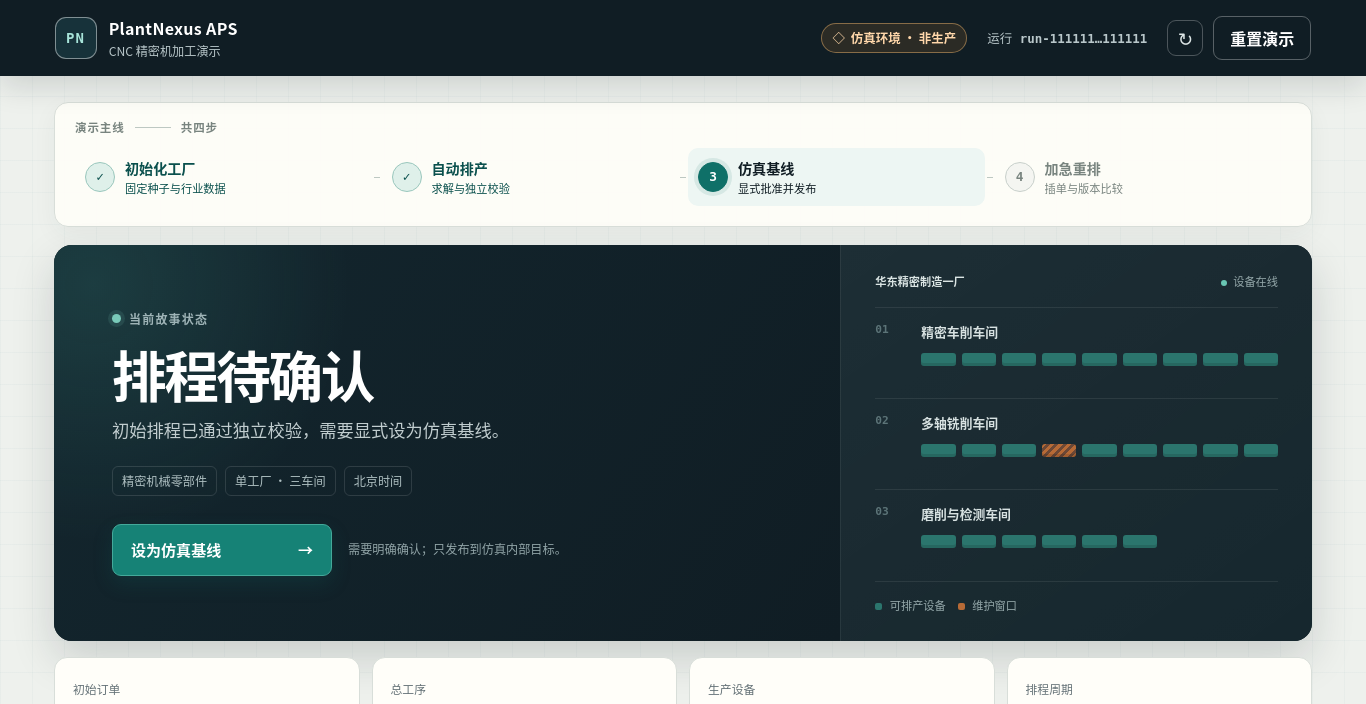
Scenario: 中文 Demo 故事首页 › 使用服务端 revision 和 fingerprint 显式确认仿真基线
Click the button "设为仿真基线 →".
click(222, 550)  # box [112, 524, 332, 576]
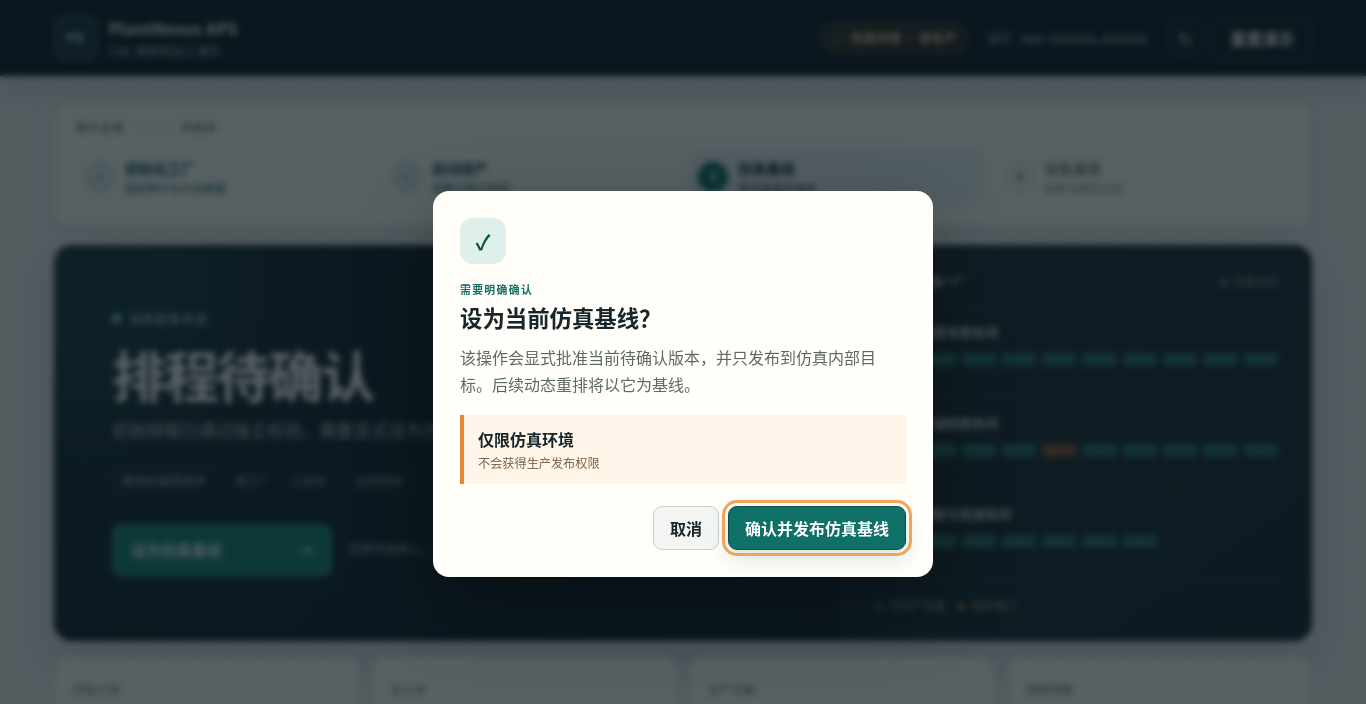
Click the button "确认并发布仿真基线".
click(817, 528)  # box [728, 506, 906, 550]
(page scrolled)
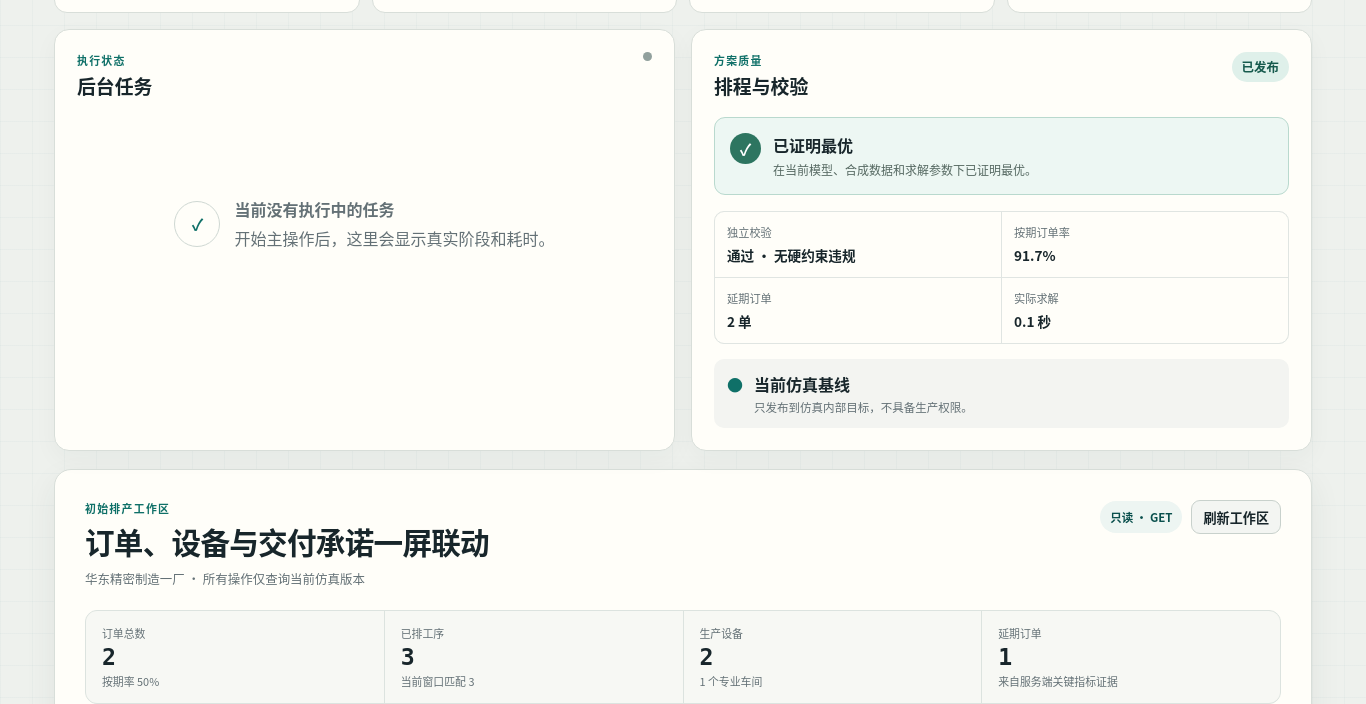
expect the text "当前仿真基线" is shown: met, box [754, 372, 850, 396]
